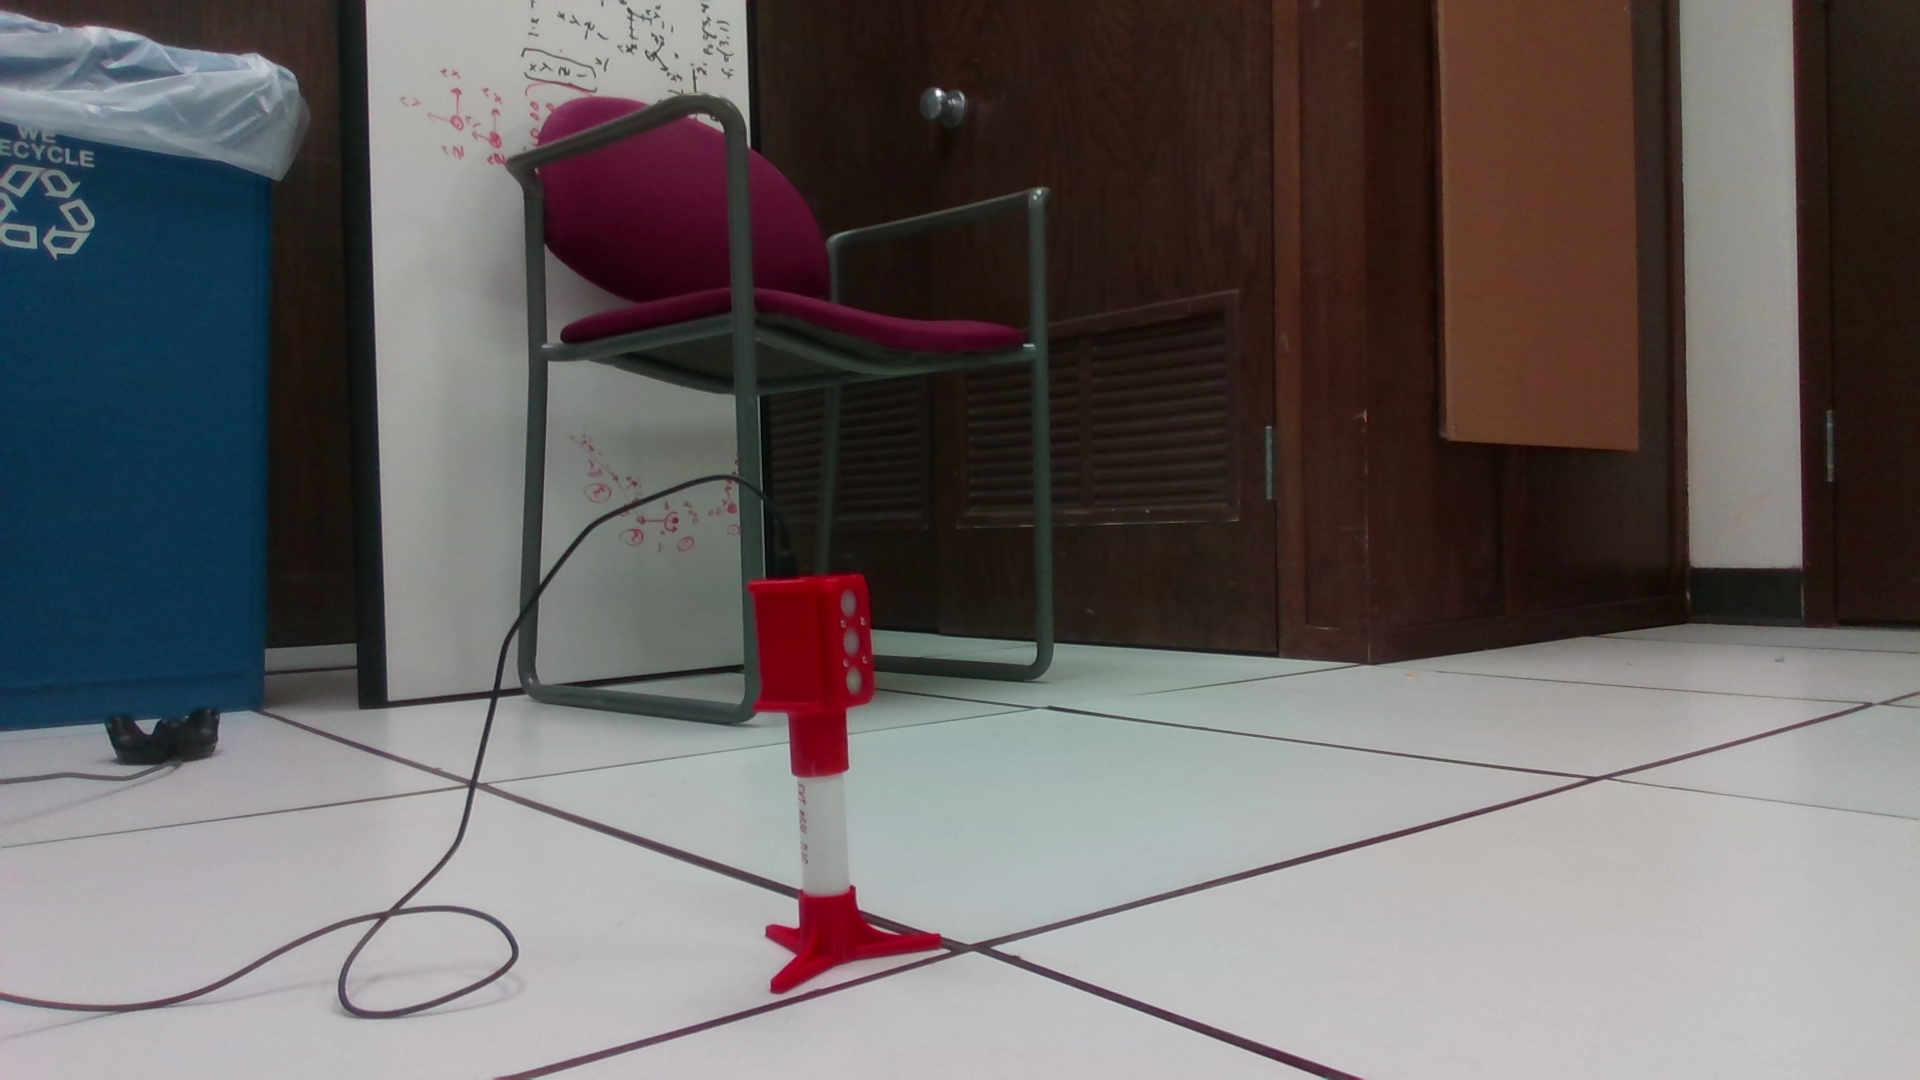stoplight: (744, 576, 874, 773)
